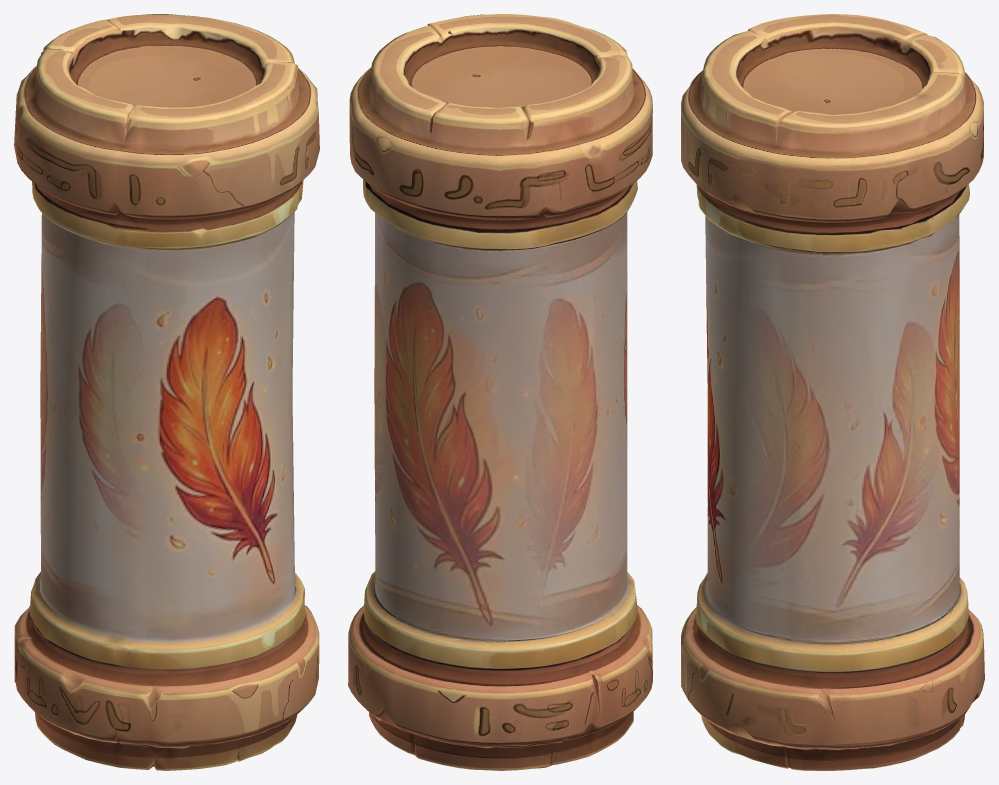
The model's file is feather.glb.
3 views of the same model, side by side, from view 1: azimuth 30°, elevation 25°; view 2: azimuth 150°, elevation 25°; view 3: azimuth 270°, elevation 25° (orthographic).
Size of the model in its own units: 0.4207 by 1 by 0.4217.
1 material, 1 textured.
